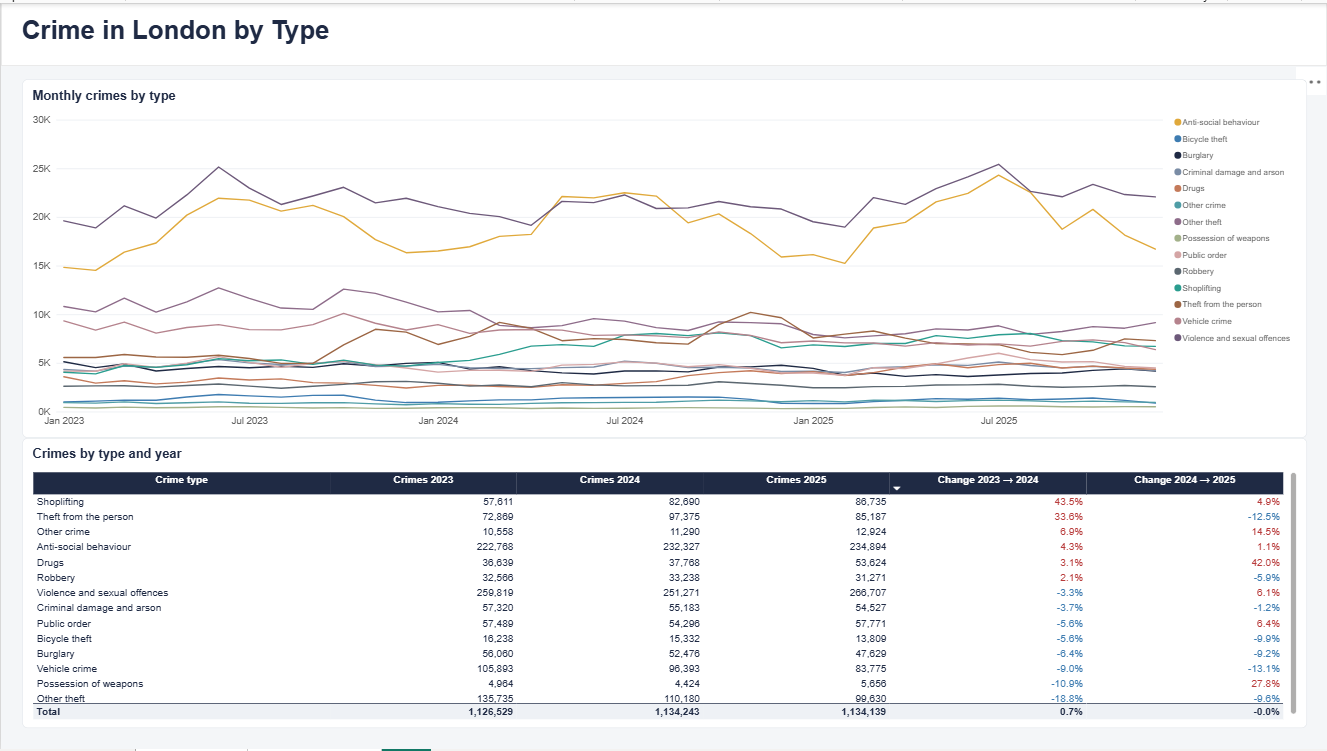

The dashboard page shown, as its layout file describes it:
{"tool":"powerbi","page":{"name":"Crime Types","canvas":[1920,1080],"ordinal":1},"visuals":[{"type":"textbox","box":[0,0,1920,90],"z":1000},{"type":"lineChart","title":"Monthly crimes by type","fields":{"Category":["crimes.Month"],"Series":["crimes.Crime type"],"Y":["crimes.Total crimes"]},"box":[30.8,110.4,1860.3,519.4],"z":2000},{"type":"tableEx","title":"Crimes by type and year","fields":{"Values":["crimes.Crime type","crimes.Crimes 2023","crimes.Crimes 2024","crimes.Crimes 2025","crimes.Change 2023-2024 %","crimes.Change 2024-2025 %"]},"box":[30,630,1860,420],"z":4000}]}

Visuals, with their boxes in screenshot pixels (x1, y1, x2, y2), scaled from the page's 1920x1080 canvas onto the 1327x751 screenshot:
textbox: (0, 0, 1326, 63)
"Monthly crimes by type" lineChart: (21, 77, 1307, 438)
"Crimes by type and year" tableEx: (21, 438, 1306, 730)
